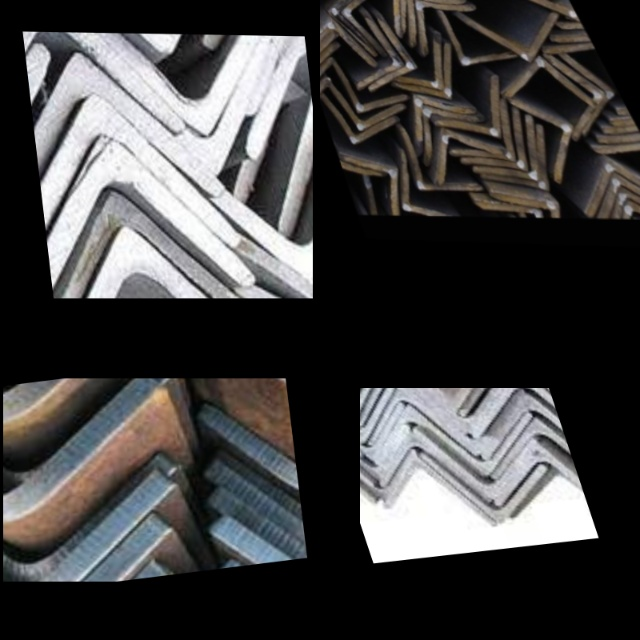Angle: (36, 146, 250, 298), (31, 106, 237, 263), (27, 68, 216, 219), (3, 378, 159, 512), (3, 455, 168, 579), (43, 203, 257, 298), (3, 474, 172, 582), (3, 378, 166, 484), (23, 32, 173, 141), (87, 33, 276, 119), (169, 40, 280, 166), (3, 508, 166, 582), (48, 247, 260, 298), (419, 422, 548, 501), (424, 445, 555, 522), (486, 451, 596, 541), (419, 405, 545, 478), (238, 35, 313, 153), (218, 461, 306, 560), (376, 458, 492, 532), (469, 399, 576, 479), (481, 423, 585, 504), (209, 408, 299, 497), (413, 391, 536, 455), (462, 388, 569, 459), (226, 450, 304, 538), (220, 490, 307, 568), (460, 5, 572, 61), (541, 57, 621, 135), (550, 54, 630, 131), (513, 99, 590, 176), (221, 201, 313, 263), (25, 53, 61, 207), (396, 388, 526, 430), (459, 121, 556, 177), (468, 132, 566, 186), (449, 114, 542, 169), (3, 549, 156, 582), (408, 108, 497, 163), (437, 107, 529, 160), (450, 388, 560, 432), (401, 97, 488, 151), (384, 47, 470, 99), (421, 133, 508, 183), (550, 45, 623, 104), (223, 517, 307, 568), (3, 378, 131, 411), (401, 134, 475, 189), (406, 1, 487, 50), (501, 61, 587, 105), (360, 439, 424, 498), (360, 391, 415, 459), (567, 163, 640, 214), (324, 93, 401, 141), (386, 37, 458, 88), (442, 9, 511, 62), (396, 0, 480, 43), (557, 36, 619, 94), (346, 156, 409, 213), (360, 414, 417, 476), (336, 59, 406, 109), (333, 82, 408, 126), (388, 155, 441, 215), (340, 0, 396, 54), (389, 388, 518, 411), (388, 0, 469, 31), (320, 22, 372, 70), (360, 388, 407, 441), (600, 137, 640, 198), (330, 0, 382, 45), (586, 179, 640, 218), (353, 0, 413, 35), (598, 147, 640, 193), (607, 128, 640, 185), (187, 378, 286, 396), (340, 160, 384, 194), (513, 0, 578, 22), (360, 388, 395, 420), (320, 0, 345, 32), (320, 37, 343, 65)
